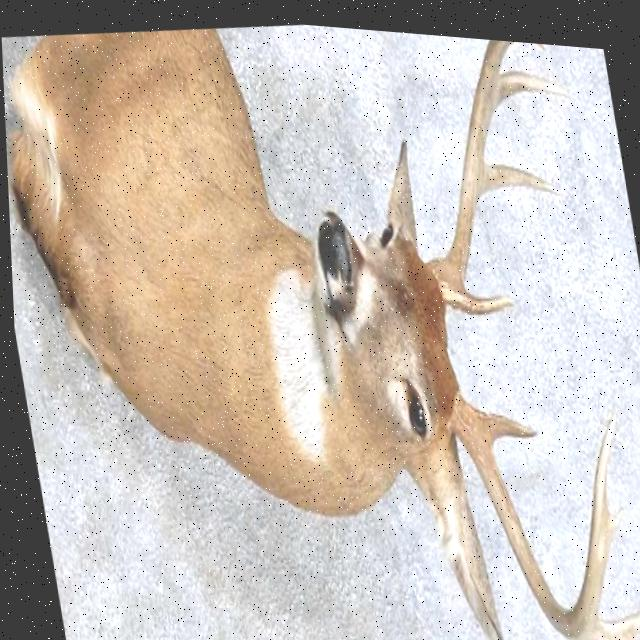E1: (602, 494, 620, 537)
L-G1: (455, 274, 511, 308)
L-G2: (475, 152, 558, 187)
L-G3: (493, 60, 566, 98)
R-F: (444, 382, 613, 629)
R-G1: (468, 397, 534, 441)
